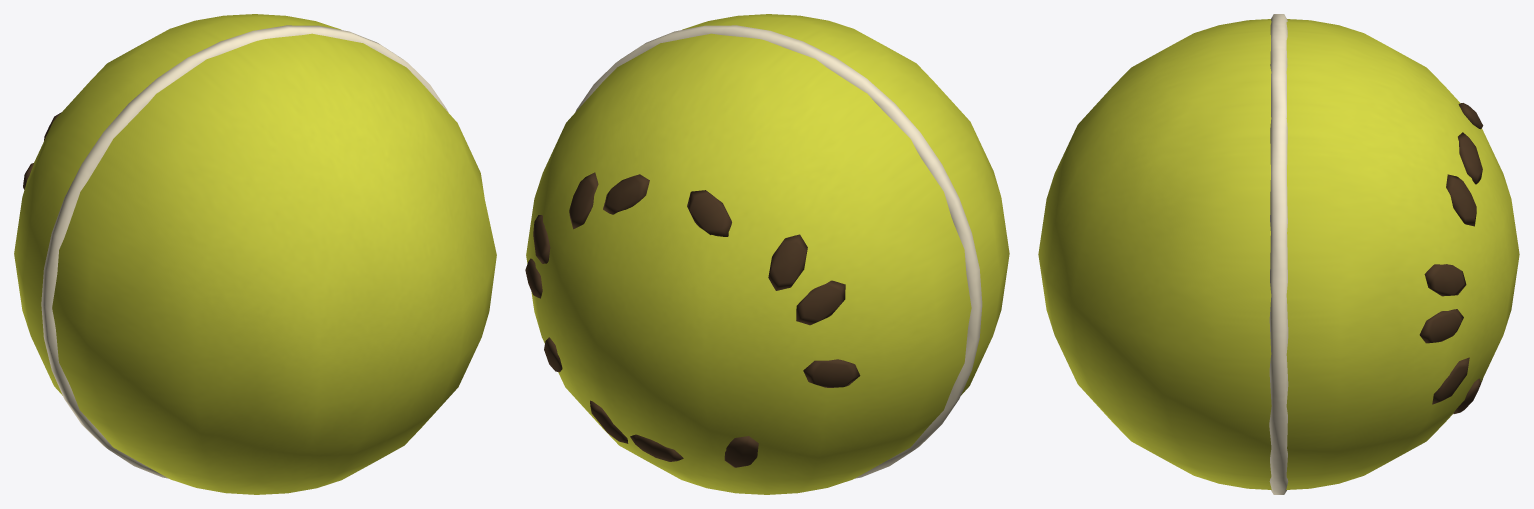
Rendered from DebrisDogBall.gltf.
The picture shows the model from 3 angles, left to right: view 1: azimuth 30°, elevation 25°; view 2: azimuth 150°, elevation 25°; view 3: azimuth 270°, elevation 25°; orthographic projection.
Parts seen in each view (by area): view 1: DebrisDogBall__Body; view 2: DebrisDogBall__Body; view 3: DebrisDogBall__Body.
Part boxes in pixels (left/top/right/bottom): DebrisDogBall__Body: left=14, top=14, right=496, bottom=494; DebrisDogBall__Body: left=525, top=14, right=1009, bottom=494; DebrisDogBall__Body: left=1038, top=14, right=1519, bottom=494.
Size of the model in its own units: 0.154 by 0.154 by 0.154.
1 material, 1 textured.
